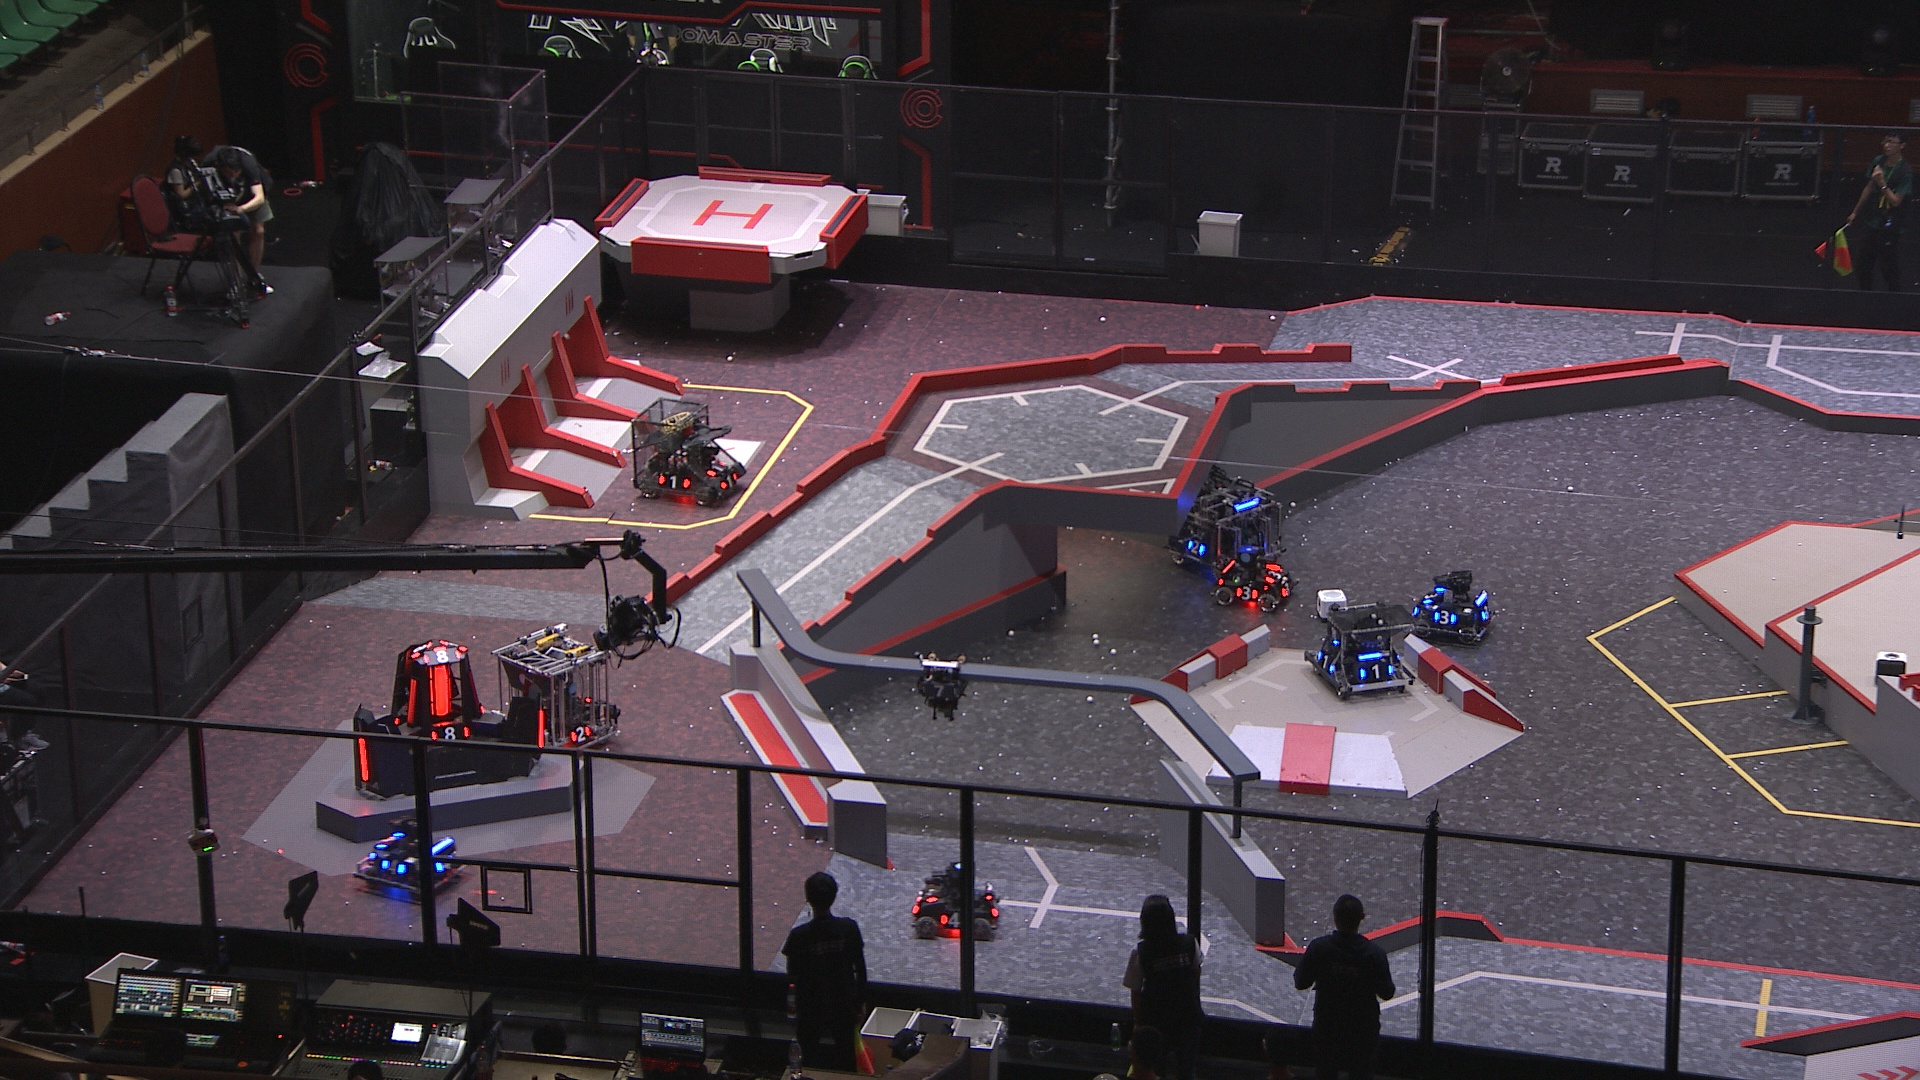armor: (430, 665, 454, 716), (429, 725, 472, 745), (657, 473, 695, 495), (923, 683, 957, 702), (405, 679, 418, 725), (357, 737, 371, 782), (376, 829, 404, 851), (422, 650, 462, 665), (570, 723, 593, 746), (1313, 651, 1337, 675), (382, 858, 409, 880), (1360, 665, 1394, 680), (1432, 609, 1462, 626), (430, 855, 458, 872), (939, 913, 964, 931), (1185, 538, 1211, 556), (1236, 585, 1262, 603), (535, 711, 546, 750), (1263, 564, 1283, 584), (719, 472, 740, 491), (923, 887, 942, 906), (409, 642, 427, 659), (1423, 593, 1441, 608), (1280, 579, 1294, 597), (703, 465, 724, 476), (1480, 604, 1491, 621)
base: (347, 640, 549, 800)
car: (491, 618, 621, 757), (1164, 463, 1290, 582), (632, 394, 744, 504), (1300, 597, 1418, 698), (353, 811, 468, 899), (910, 861, 1004, 943), (1404, 568, 1501, 646), (1218, 546, 1299, 612)
watcher: (916, 651, 969, 723)
